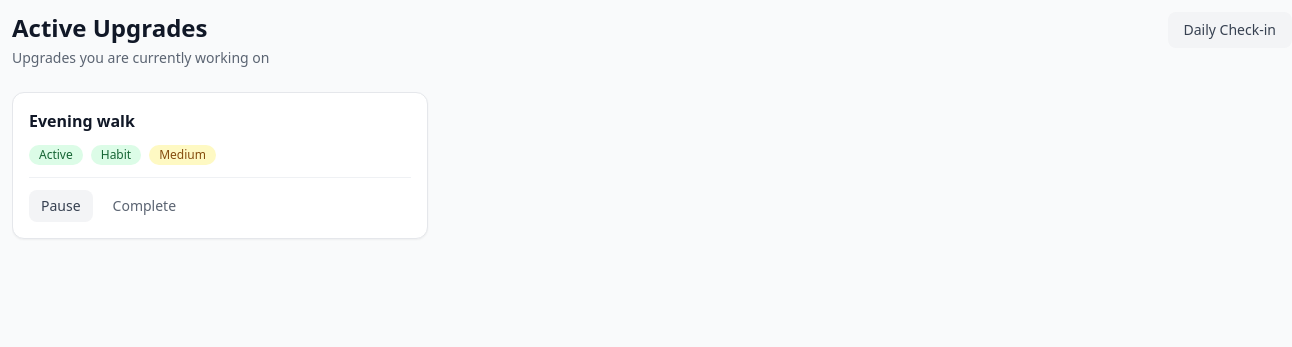
Test: ActiveUpgradesPage › GivenAChangeWasRefused_WhenItIsTriedAgainAndAccepted_ThenTheMessageGoes
Click the button "Pause ". click: (61, 206)
box: [29,190,93,222]
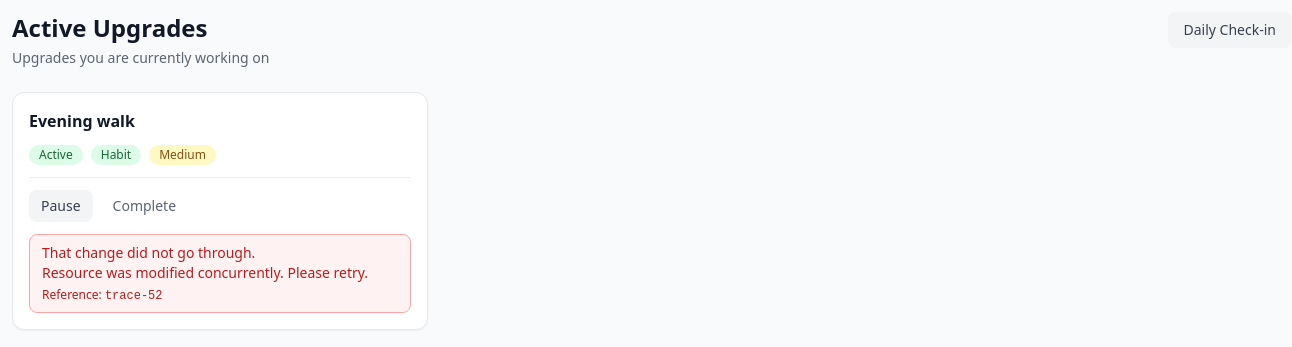
Now the message is shown, box [29,234,411,313]
Click the button "Pause ". click: (61, 206)
box: [29,190,93,222]
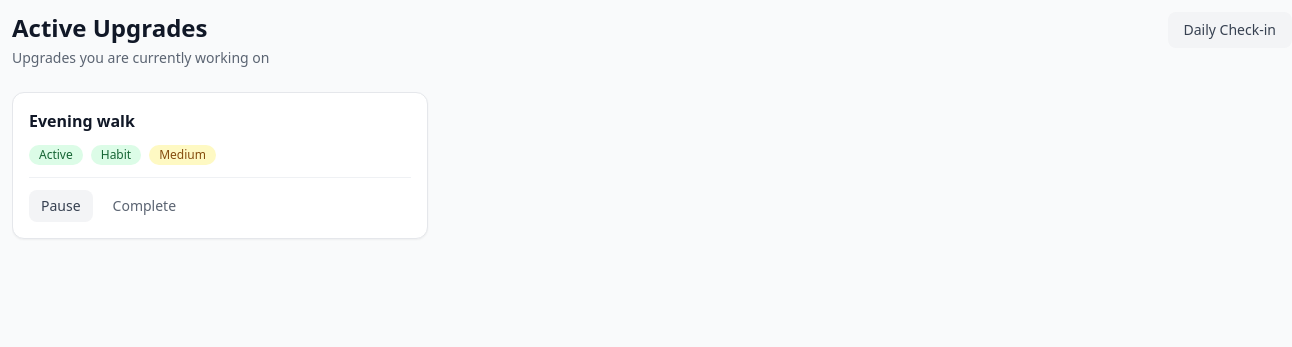
Now the message is gone
